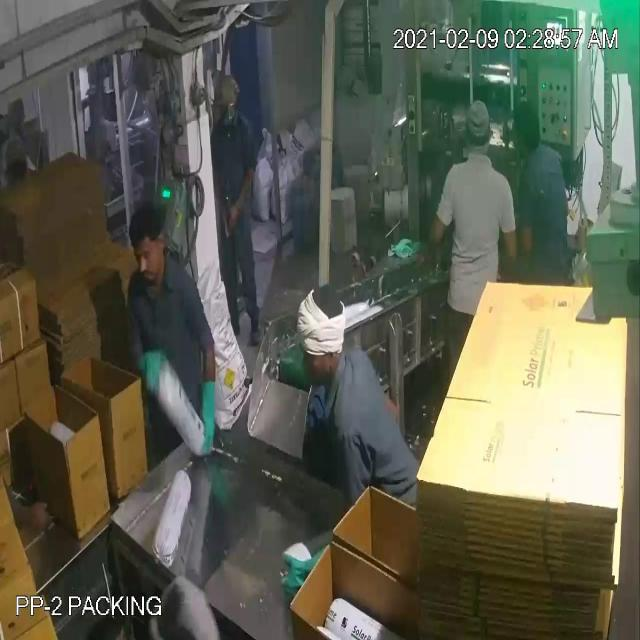gloves: (182, 356, 228, 456), (274, 537, 336, 603), (139, 337, 163, 398)
no-gloves: (13, 476, 68, 560), (228, 159, 252, 229)
